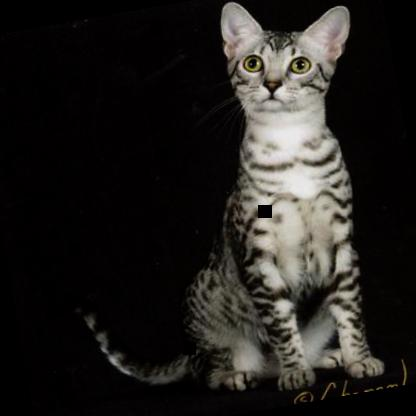cat: (15, 0, 413, 415)
